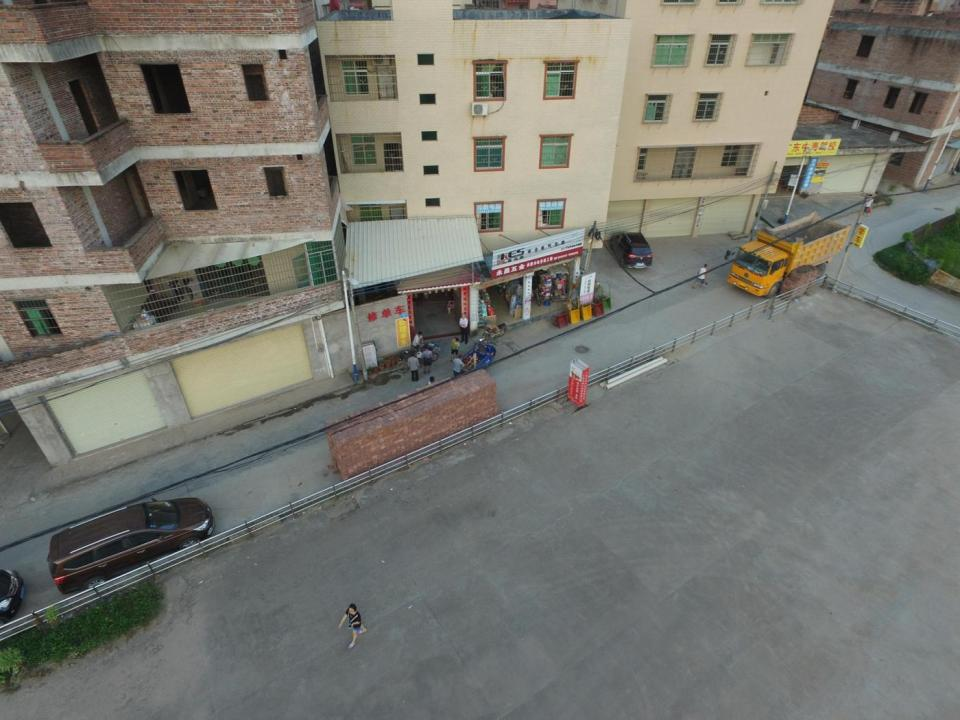truck: (724, 210, 852, 302), (608, 230, 654, 272)
van: (49, 496, 213, 596)
